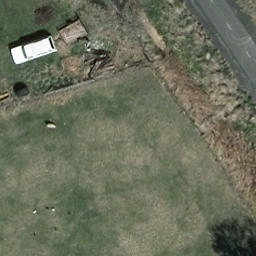car: (10, 38, 58, 66)
